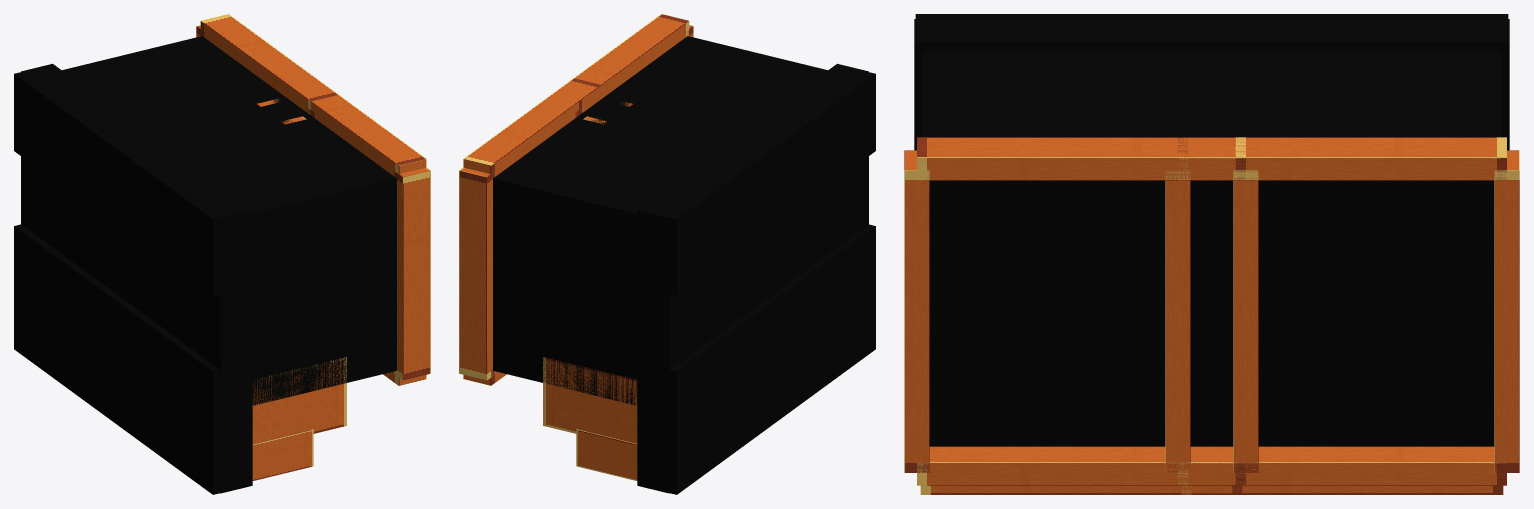
File: bench_boots_5_hot.obj
The picture shows the model from 3 angles, left to right: view 1: azimuth 30°, elevation 25°; view 2: azimuth 150°, elevation 25°; view 3: azimuth 270°, elevation 25°; orthographic projection. The views are drawn at different scales.
Parts seen in each view (by area): view 1: geometry; view 2: geometry; view 3: geometry.
Part boxes in pixels (x1,y1,x2,y2): geometry: (14, 14, 430, 494); geometry: (459, 14, 875, 494); geometry: (904, 14, 1519, 494).
Bounding box in the file's own units: 0.1975 × 0.25 × 0.3301.
